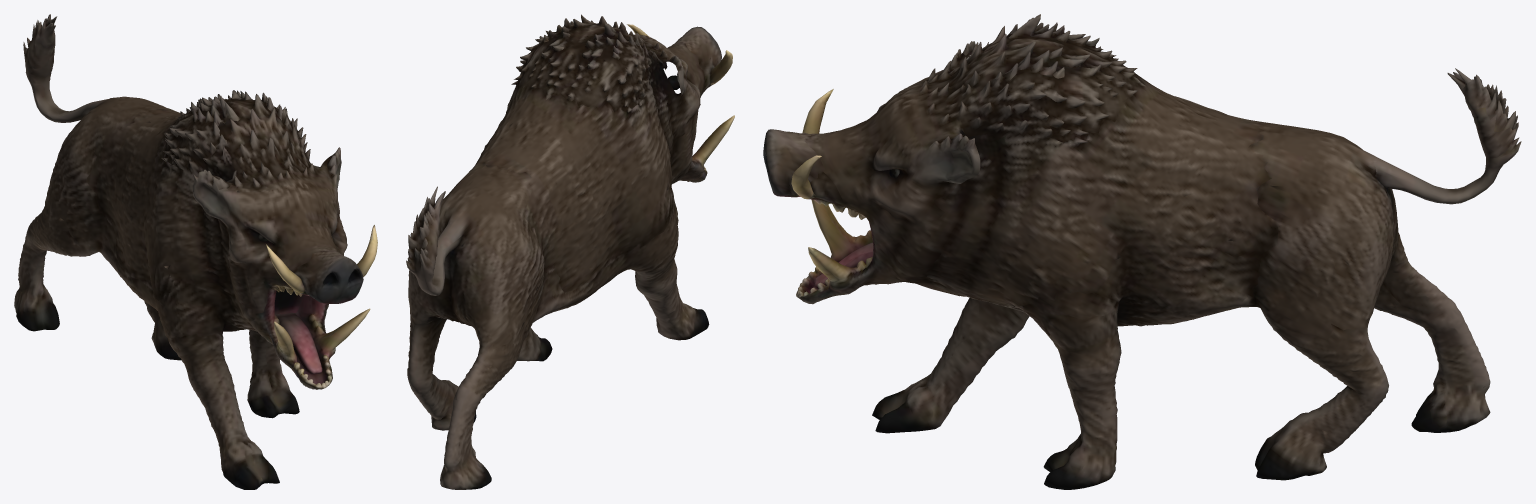
The model's file is MZ4250 - Boar.glb.
3 views of the same model, side by side, from view 1: azimuth 30°, elevation 25°; view 2: azimuth 150°, elevation 25°; view 3: azimuth 270°, elevation 25° (orthographic). The views are drawn at different scales.
Visible parts, largest first — view 1: Boar W Tusk.001; view 2: Boar W Tusk.001; view 3: Boar W Tusk.001.
Boxes of the visible parts, x1,y1,x2,y2 form: Boar W Tusk.001: (14,14,377,489); Boar W Tusk.001: (406,14,734,489); Boar W Tusk.001: (763,14,1521,489).
Size of the model in its own units: 0.2218 by 0.4596 by 0.7407.
Materials: 1 (1 with a texture image).
